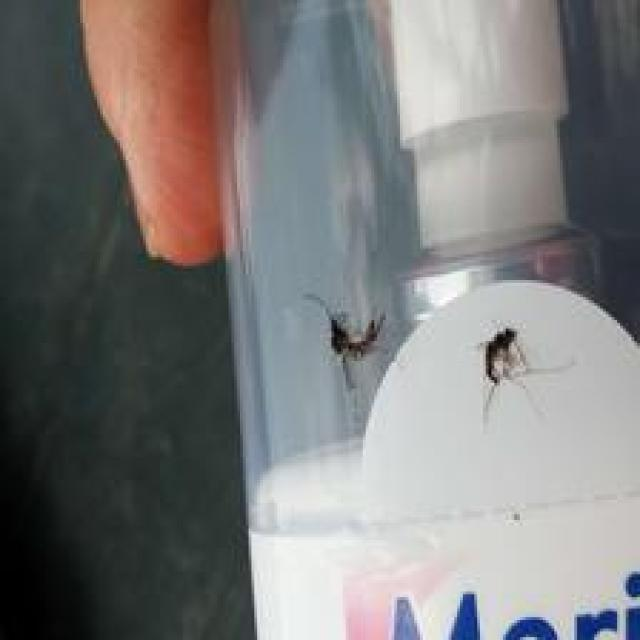Aedes albopictus: (474, 326, 574, 426)
